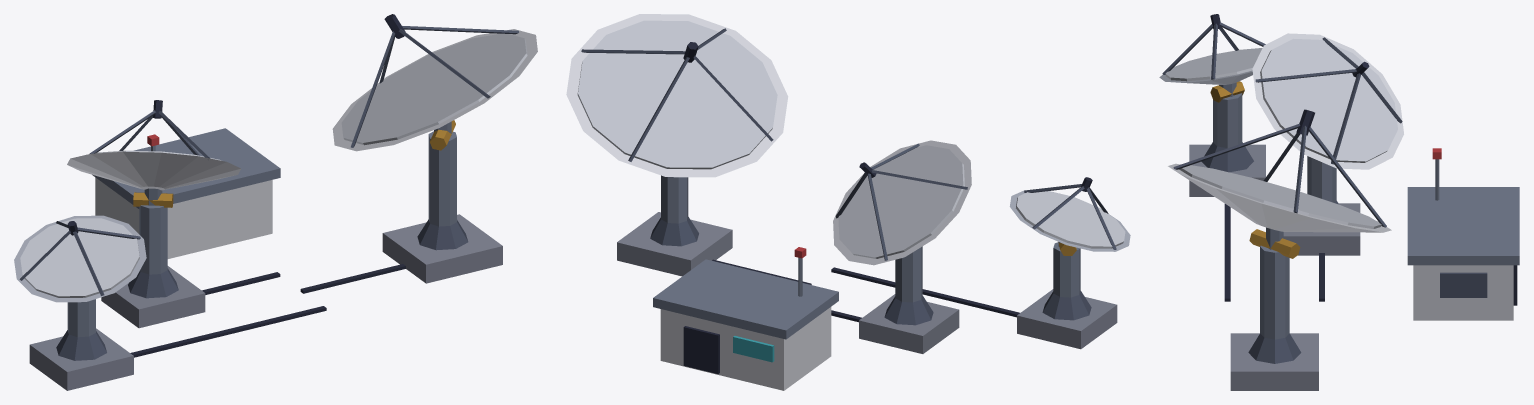
The model's file is Decor_Observatory_Dishes.fbx.
3 renders of one model, left to right at view 1: azimuth 30°, elevation 25°; view 2: azimuth 150°, elevation 25°; view 3: azimuth 270°, elevation 25°, orthographic. The views are drawn at different scales.
Visible parts, largest first — view 1: Dishes_Body; view 2: Dishes_Body; view 3: Dishes_Body.
Boxes of the visible parts, bbox=[...] form: Dishes_Body: bbox=[14, 14, 537, 390]; Dishes_Body: bbox=[566, 14, 1130, 390]; Dishes_Body: bbox=[1159, 14, 1519, 390].
Size of the model in its own units: 21.02 by 9.08 by 12.1.
